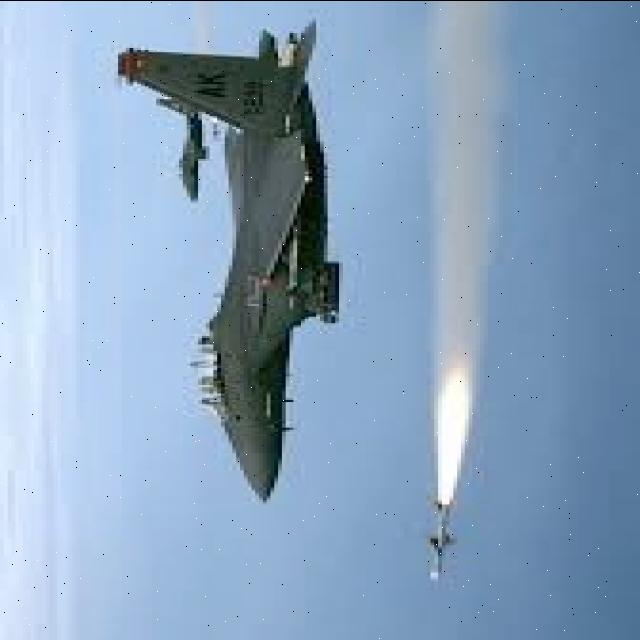F15: (84, 2, 366, 522)
